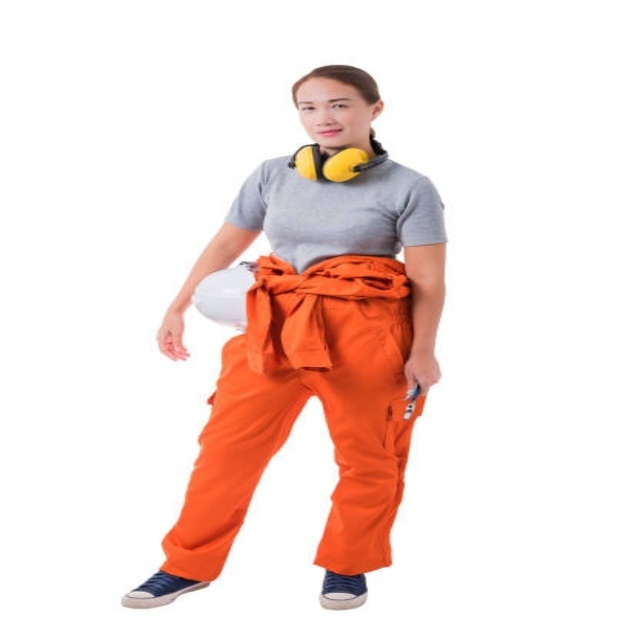Sin_gafas: (295, 94, 357, 112)
Sin_guantes: (398, 349, 448, 397), (152, 311, 194, 363)
Sin_mascara: (306, 124, 348, 140)
